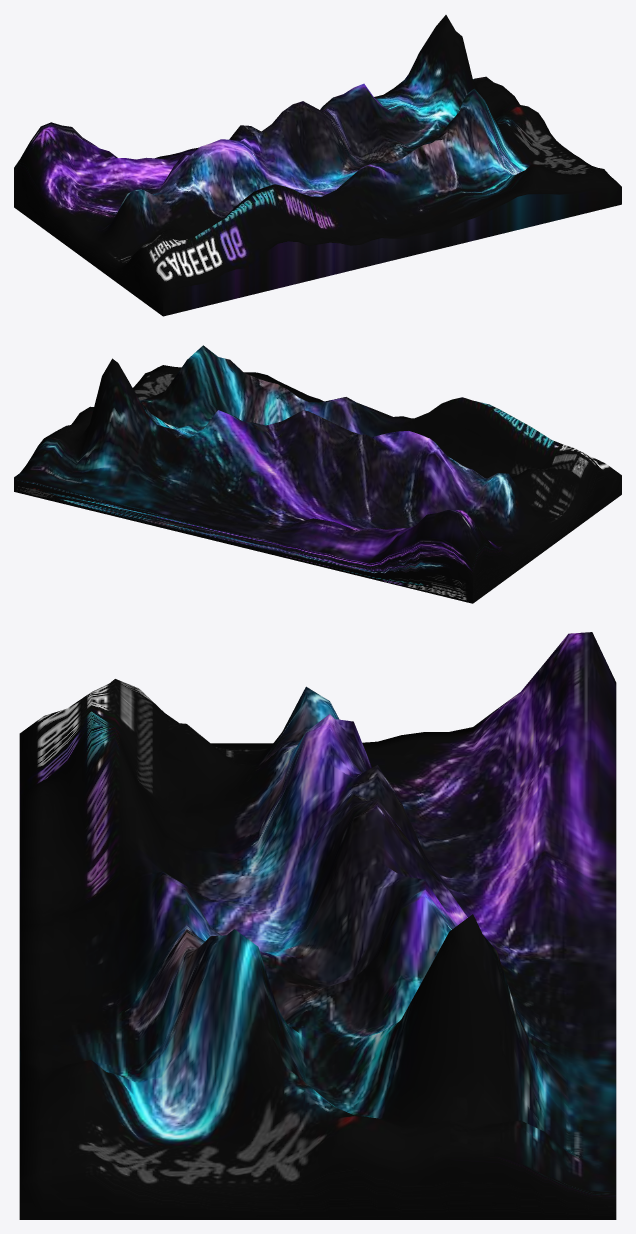
File: CAREER_06_VFX_02_Combo.glb
3 views of the same model, one above another, from view 1: azimuth 30°, elevation 25°; view 2: azimuth 150°, elevation 25°; view 3: azimuth 270°, elevation 25° (orthographic). The views are drawn at different scales.
Visible parts, largest first — view 1: CAREER_06_VFX_02_Combo; view 2: CAREER_06_VFX_02_Combo; view 3: CAREER_06_VFX_02_Combo.
Part boxes in pixels (box(x1,y1,x2,y2)): CAREER_06_VFX_02_Combo: box(14, 15, 621, 316); CAREER_06_VFX_02_Combo: box(14, 345, 621, 603); CAREER_06_VFX_02_Combo: box(19, 632, 616, 1219).
Bounding box in the file's own units: 2 × 0.51 × 1.13.
1 material, 1 textured.
